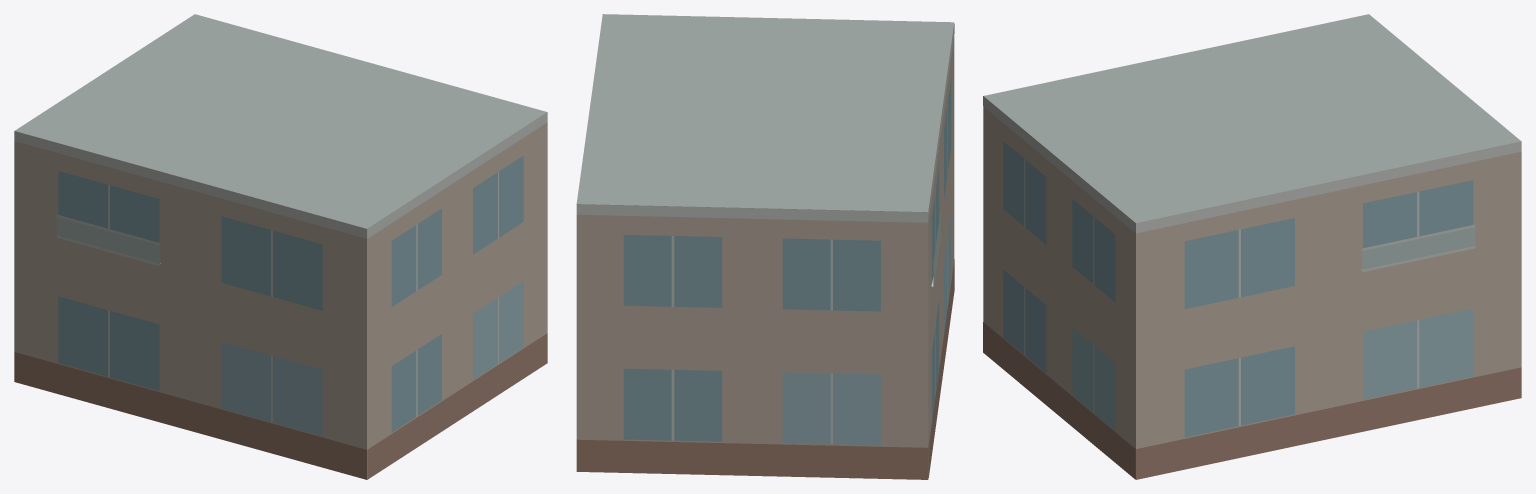
File: survey-upis-32719289.glb
3 renders of one model, left to right at view 1: azimuth 30°, elevation 25°; view 2: azimuth 150°, elevation 25°; view 3: azimuth 270°, elevation 25°, orthographic. The views are drawn at different scales.
Visible parts, largest first — view 1: survey-upis-32719289.tmp; view 2: survey-upis-32719289.tmp; view 3: survey-upis-32719289.tmp.
Boxes of the visible parts, box(x1,y1,x2,y2) form: survey-upis-32719289.tmp: box(14, 14, 547, 479); survey-upis-32719289.tmp: box(576, 14, 954, 479); survey-upis-32719289.tmp: box(983, 14, 1521, 479).
Bounding box in the file's own units: 10.67 × 6.1 × 11.61.
